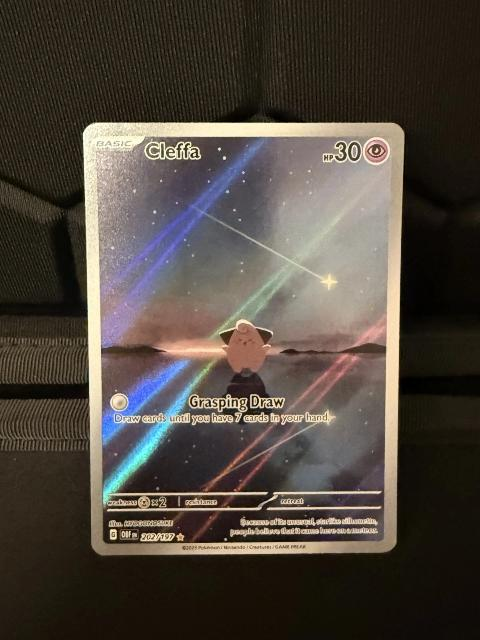Card: (78, 118, 408, 559)
Name: (140, 138, 205, 165)
